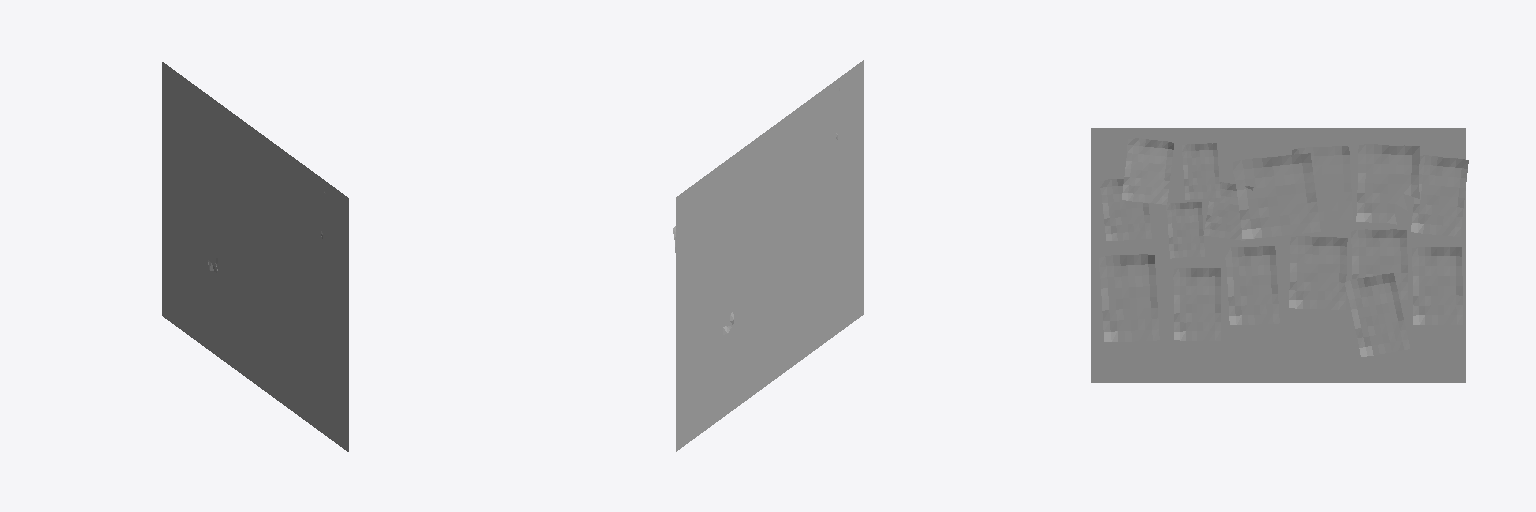
3 renders of one model, left to right at view 1: azimuth 30°, elevation 25°; view 2: azimuth 150°, elevation 25°; view 3: azimuth 270°, elevation 25°, orthographic.
Visible parts, largest first — view 1: Wall; view 2: Wall; view 3: Wall, Poster14, Poster03, Poster10, Poster11, Poster15, Poster08, Poster13, Poster16, Poster04, Poster01, Poster12 (+5 smaller).
Part boxes in pixels (x1,y1,x2,y2): Wall: (162,62,348,451); Wall: (676,60,863,451); Wall: (1091,128,1465,382); Poster14: (1233,153,1320,238); Poster03: (1099,254,1159,341); Poster10: (1356,144,1419,224); Poster11: (1289,236,1347,309); Poster15: (1345,273,1409,356); Poster08: (1225,246,1279,324); Poster13: (1412,247,1462,324); Poster16: (1411,155,1468,236); Poster04: (1173,268,1220,340); Poster01: (1122,138,1173,204); Poster12: (1351,229,1407,299).
Bounding box in the file's own units: 0.3219 × 12 × 16.13.